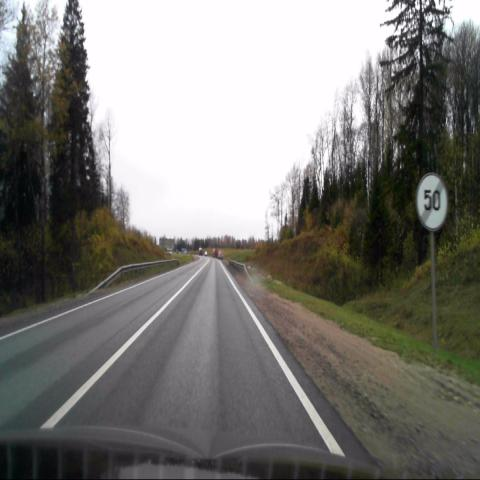3_31: (416, 174, 448, 231)
